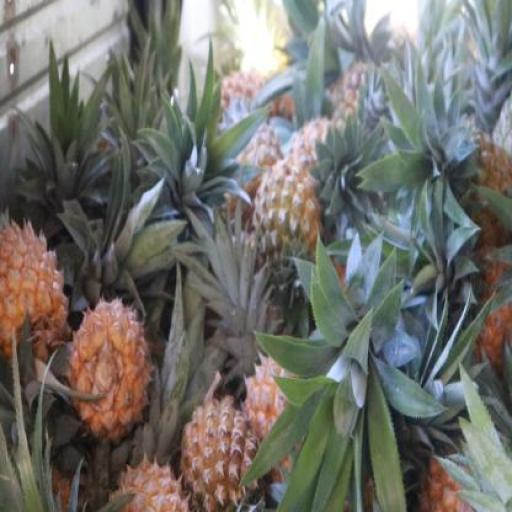Pineapple - v8 v1: (0, 219, 71, 372), (70, 300, 149, 434), (181, 399, 260, 512)
